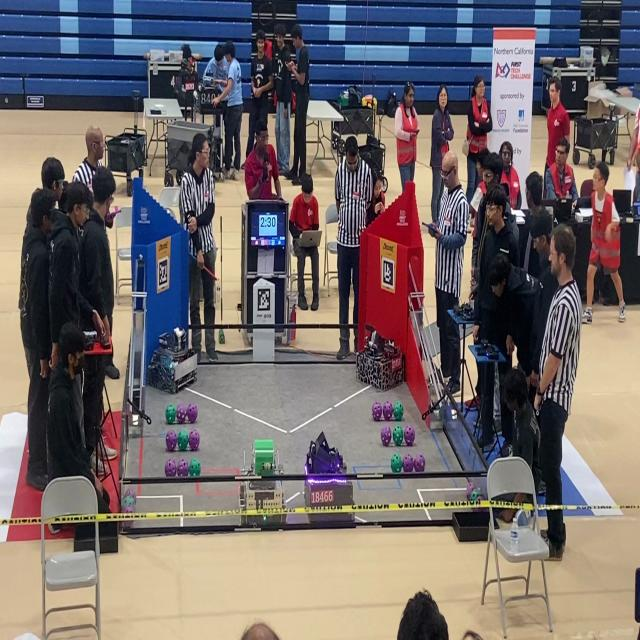artifact_green: (392, 425, 404, 446), (189, 458, 201, 477), (391, 454, 402, 473), (178, 430, 188, 450), (471, 489, 485, 503), (393, 401, 403, 420), (166, 405, 176, 424), (383, 401, 392, 420), (470, 488, 481, 503), (123, 496, 135, 507), (124, 488, 135, 497), (123, 505, 134, 513), (219, 329, 224, 344)
artifact_purple: (404, 425, 415, 446), (166, 430, 177, 450), (403, 453, 414, 473), (165, 459, 177, 477), (381, 426, 391, 446), (187, 403, 197, 423), (176, 403, 186, 423), (189, 430, 199, 450), (177, 459, 188, 477), (414, 454, 425, 472), (372, 402, 382, 421), (471, 489, 485, 502), (382, 402, 392, 420), (466, 482, 476, 500), (469, 488, 481, 503), (123, 488, 135, 497), (123, 505, 134, 513)
